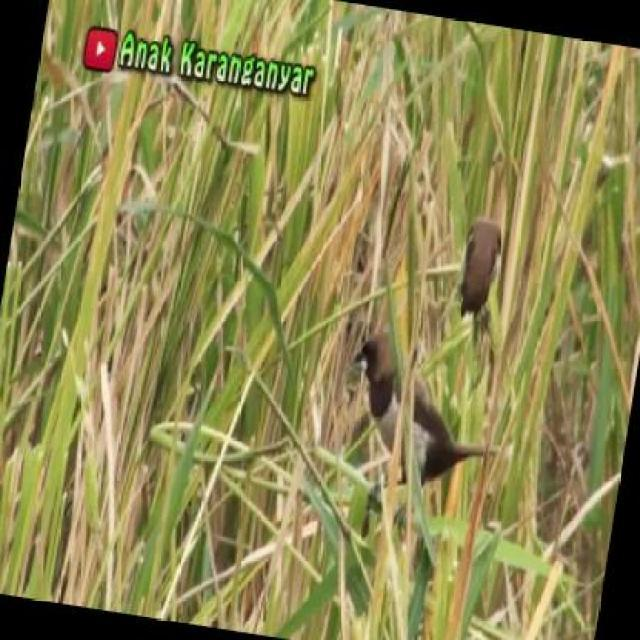Bird: (339, 315, 500, 513), (452, 206, 515, 335)
